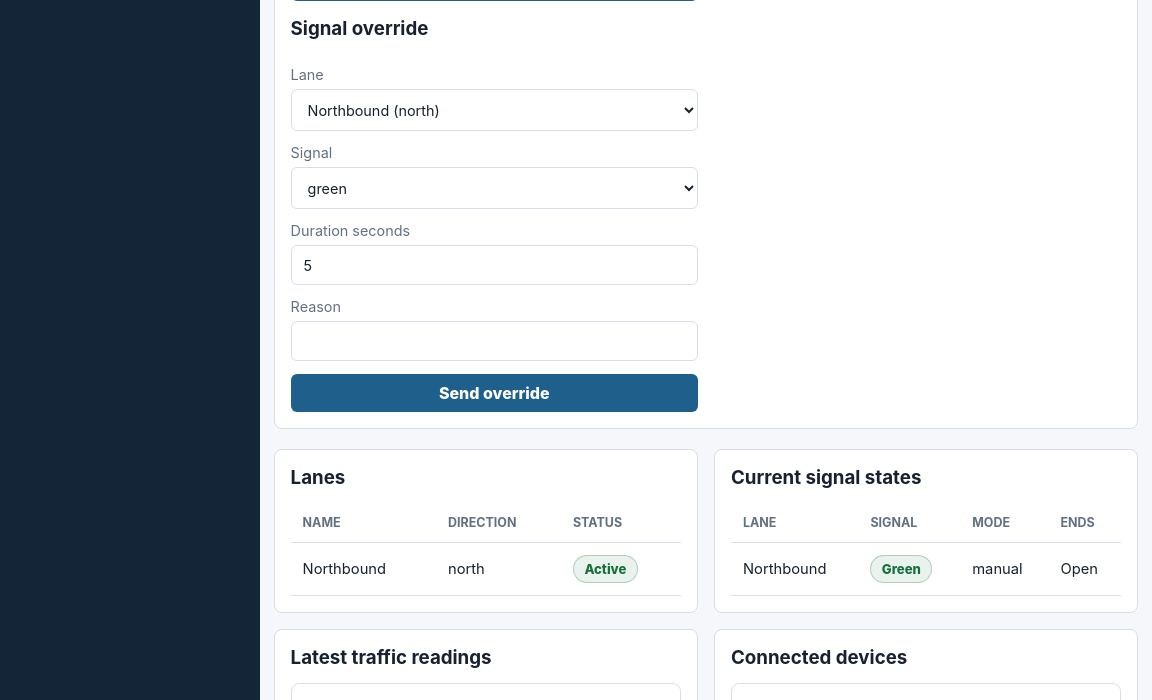
Test: dashboard app › shows failed signal-control request
(page scrolled)
In the field labelled "Reason": (494, 341) [291, 321, 698, 361], type "Too long"
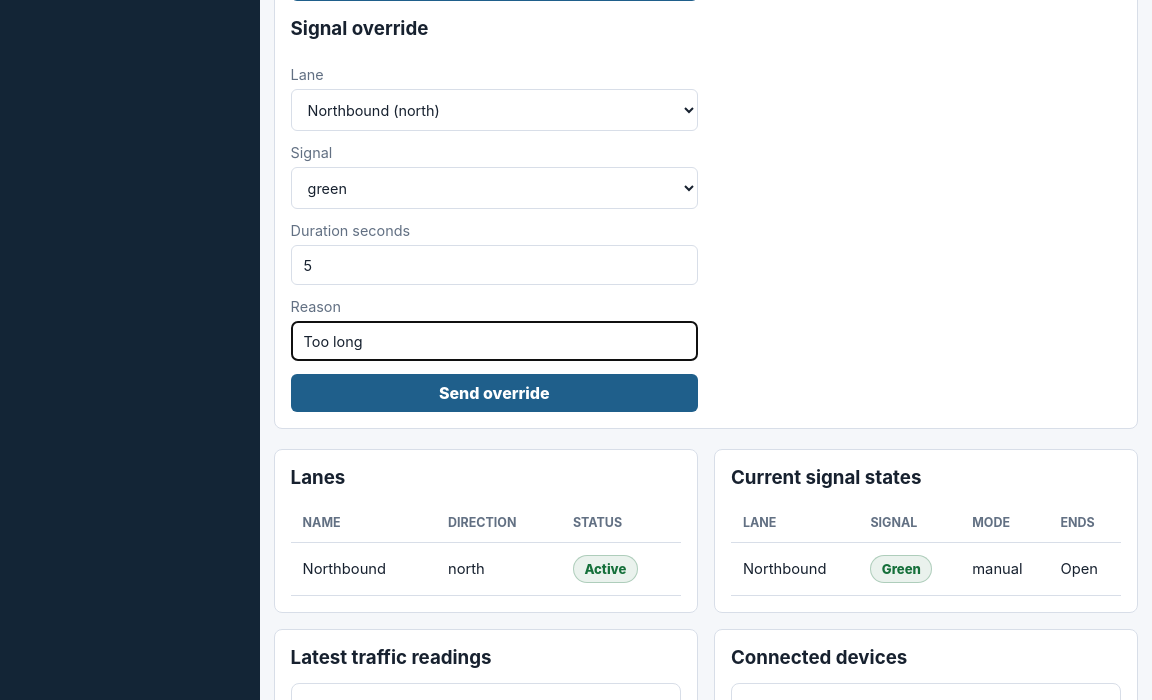
Click the button "Send override": (494, 393) [291, 374, 698, 412]
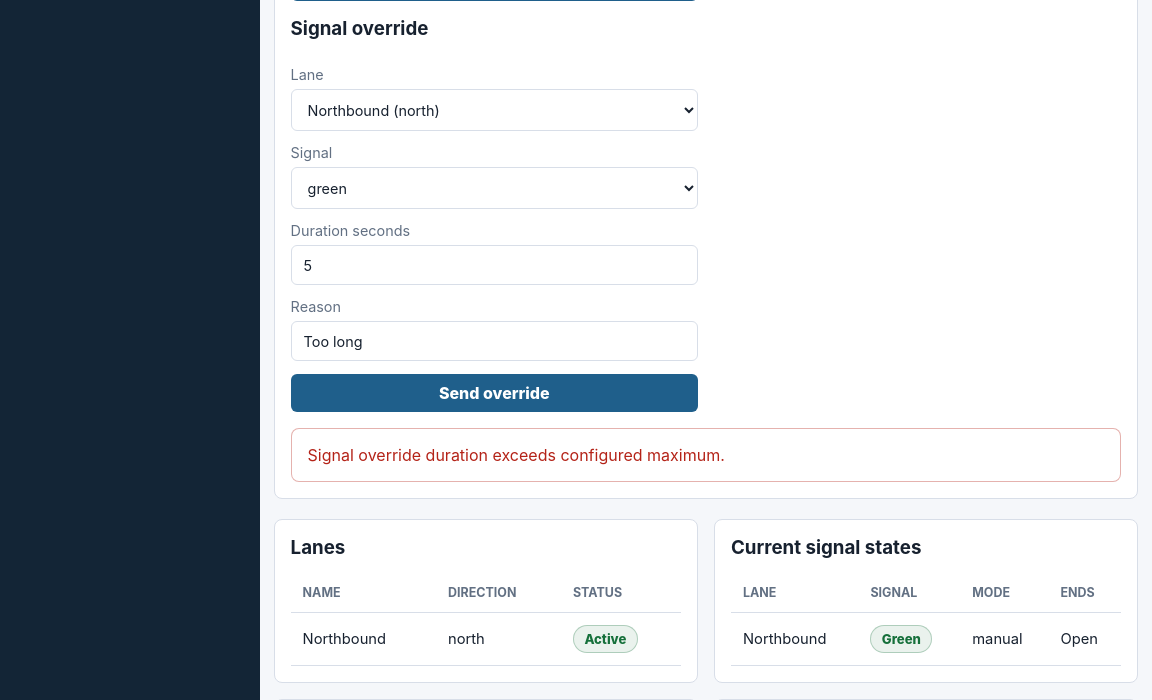
Check: the text "Signal override duration exceeds configured maximum." is shown, box [291, 428, 1121, 482]
